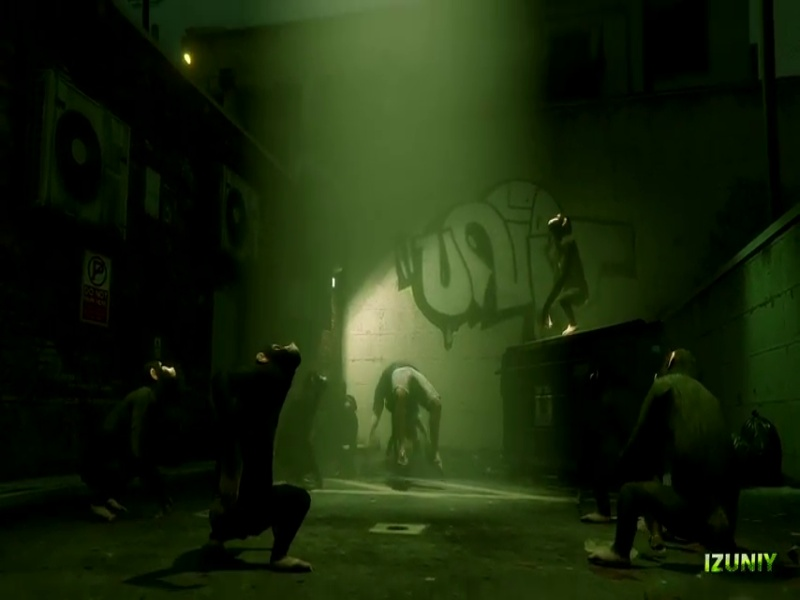human: (132, 341, 319, 570)
